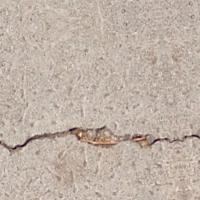crack: (0, 102, 199, 172)
